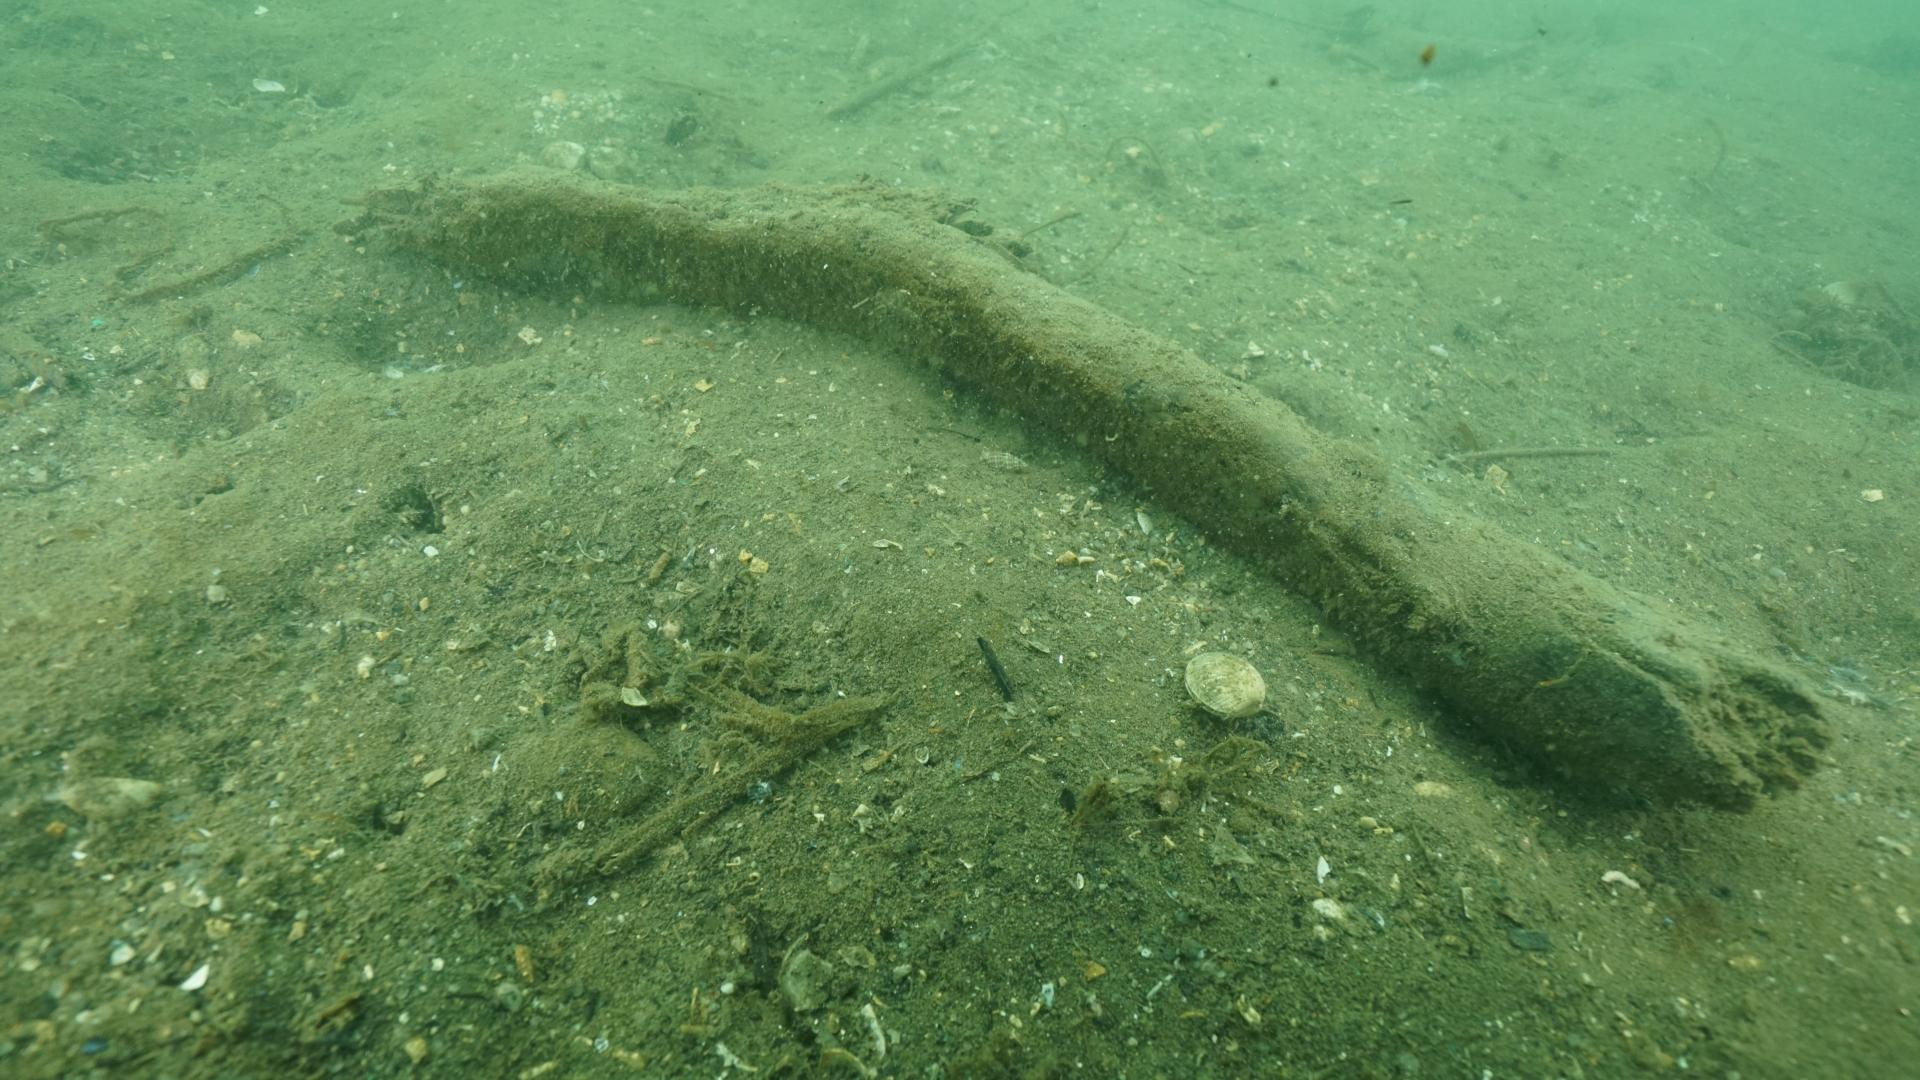wood: (340, 166, 1834, 811)
